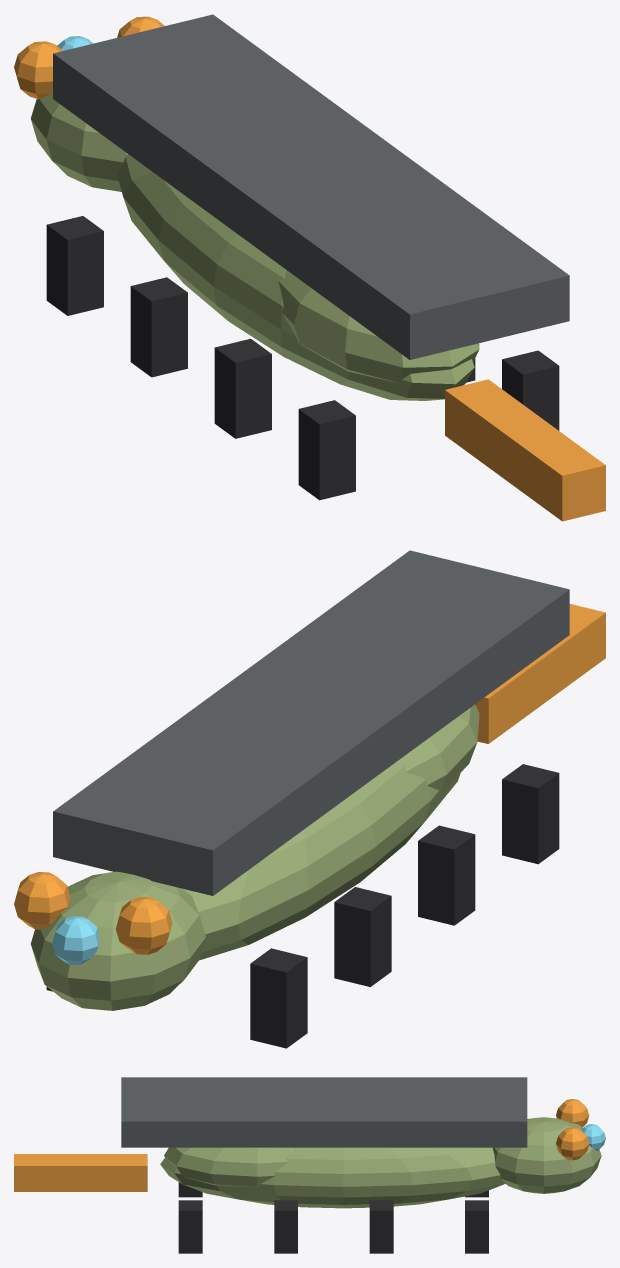
The model's file is SM_Unit_SoilCreeper.fbx.
The picture shows the model from 3 angles, top to bottom: view 1: azimuth 30°, elevation 25°; view 2: azimuth 150°, elevation 25°; view 3: azimuth 270°, elevation 25°; orthographic projection. The views are drawn at different scales.
Visible parts, largest first — view 1: SM_Unit_SoilCreeper; view 2: SM_Unit_SoilCreeper; view 3: SM_Unit_SoilCreeper.
Boxes of the visible parts, x1,y1,x2,y2 form: SM_Unit_SoilCreeper: (14, 14, 605, 521); SM_Unit_SoilCreeper: (14, 550, 605, 1048); SM_Unit_SoilCreeper: (14, 1077, 605, 1253).
Bounding box in the file's own units: 0.33 × 0.28 × 1.24.
